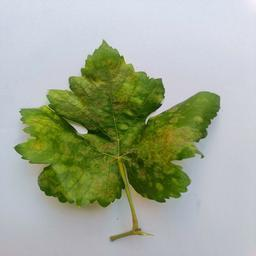Powdery-Mildew: (158, 106, 202, 152), (126, 138, 165, 181), (54, 158, 80, 197), (30, 121, 55, 156), (83, 159, 111, 190), (101, 139, 118, 156)
